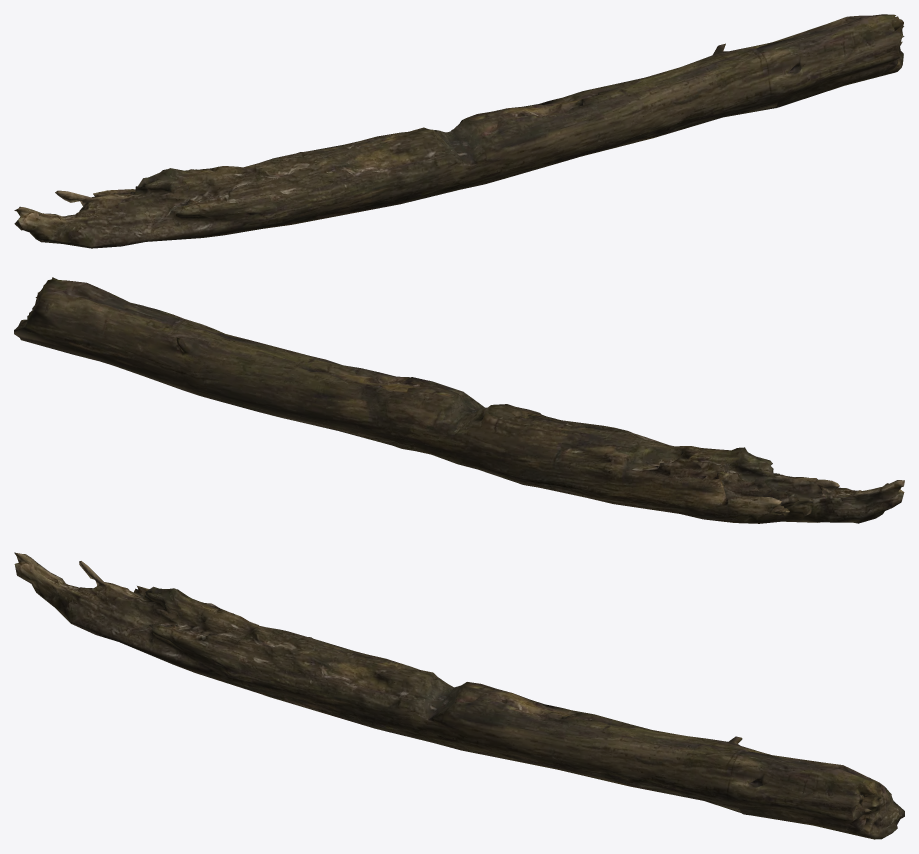
File: dead_tree_trunk.glb
The picture shows the model from 3 angles, top to bottom: view 1: azimuth 30°, elevation 25°; view 2: azimuth 150°, elevation 25°; view 3: azimuth 330°, elevation 25°; orthographic projection.
Visible parts, largest first — view 1: dead_tree_trunk; view 2: dead_tree_trunk; view 3: dead_tree_trunk.
Part boxes in pixels (x1,y1,x2,y2): dead_tree_trunk: (14,14,904,248); dead_tree_trunk: (14,277,904,523); dead_tree_trunk: (14,552,904,839).
Size of the model in its own units: 3.05 by 0.2869 by 0.2763.
1 material, 1 textured.
